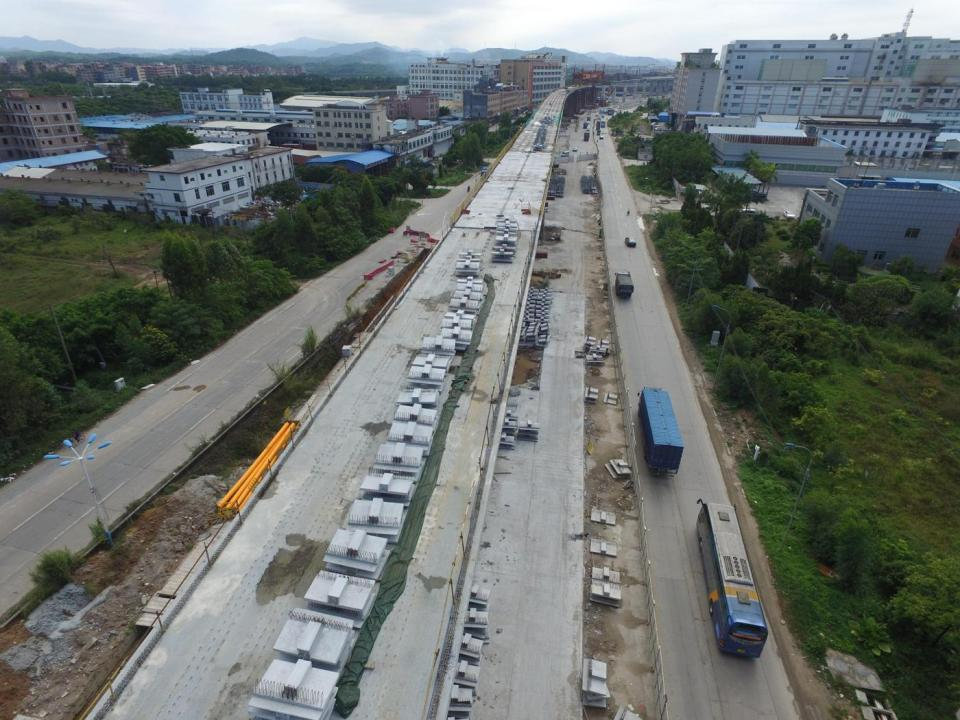bus: (694, 498, 765, 659), (602, 121, 606, 128), (584, 121, 588, 128)
car: (624, 237, 636, 248), (784, 210, 794, 219), (573, 146, 578, 151), (598, 136, 602, 139)
truck: (637, 386, 684, 476), (616, 270, 634, 300), (418, 163, 436, 170), (481, 166, 489, 176), (584, 131, 590, 141)
van: (562, 151, 569, 156), (587, 127, 590, 131)
